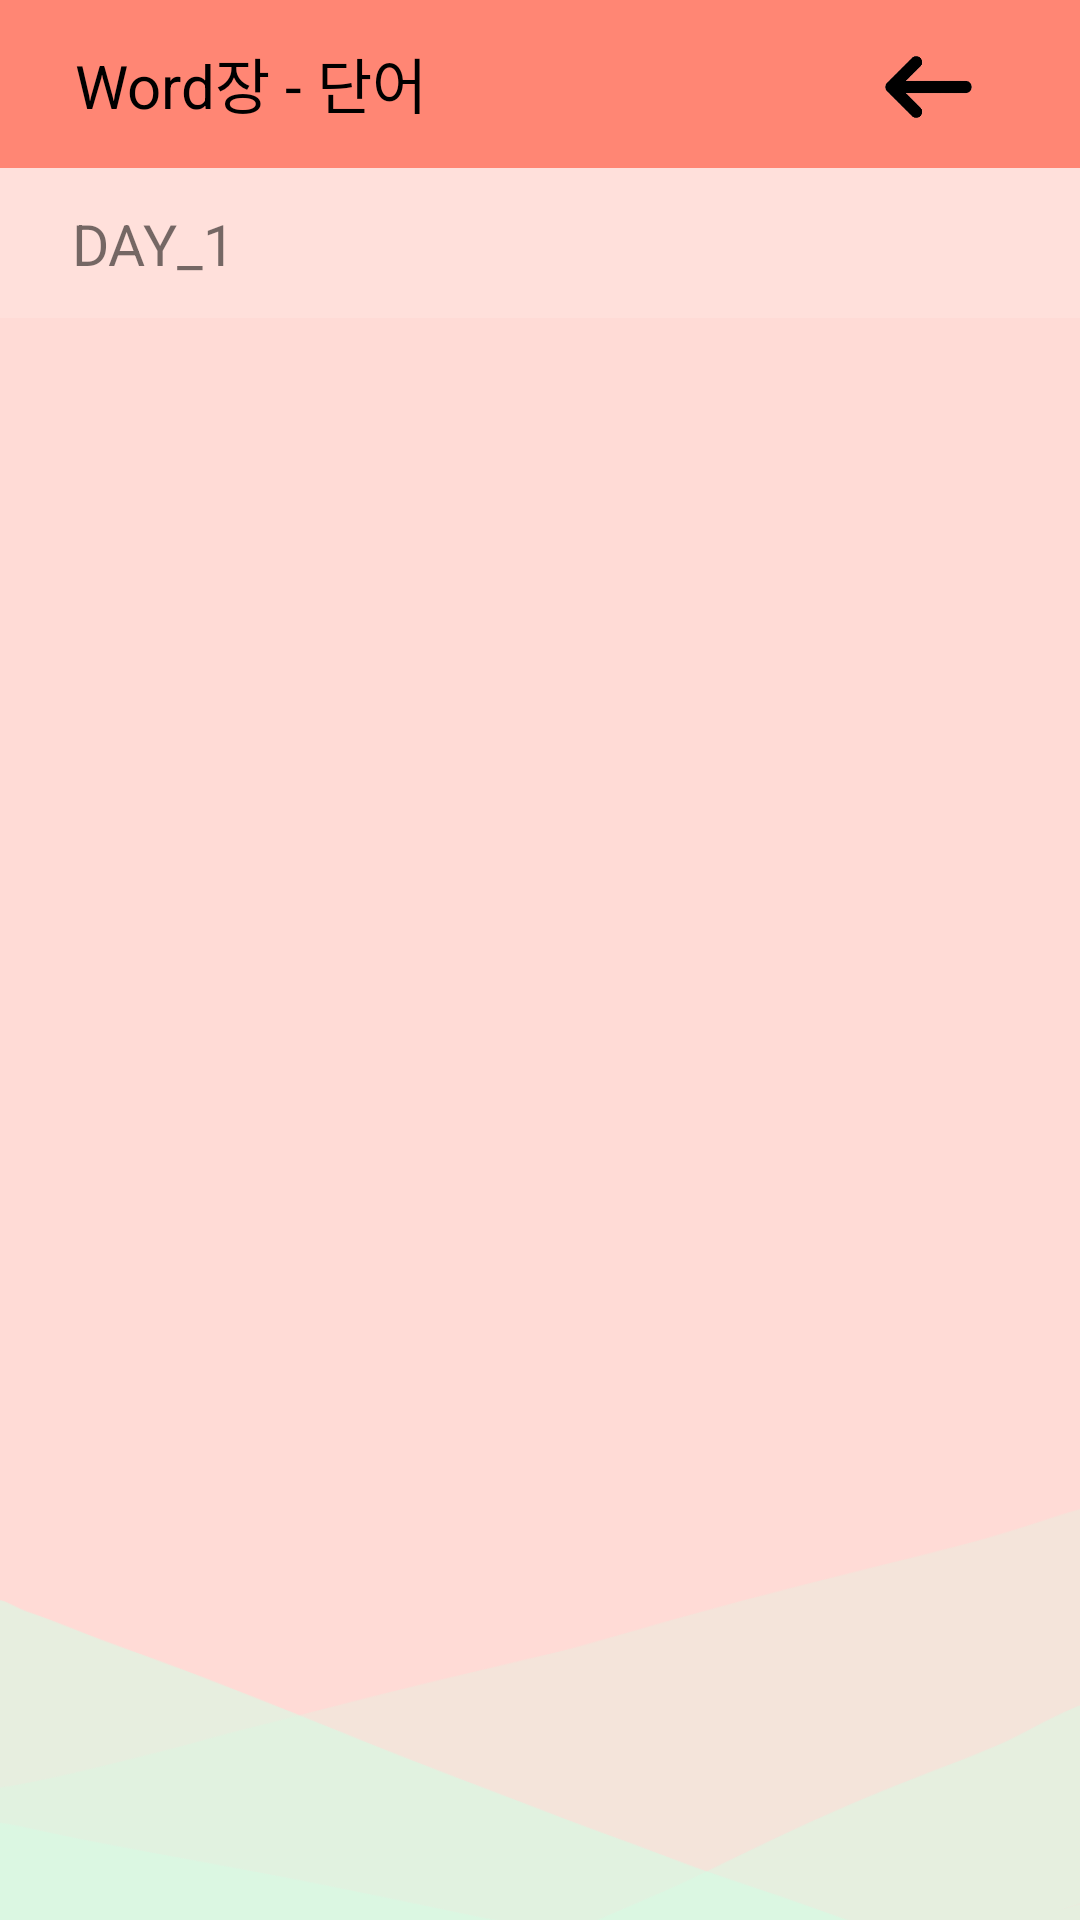

Icon bounding boxes for this 1080w x 1920h phone screenshot, format (x1, y1, x2, y2):
back: (885, 56, 972, 118)
